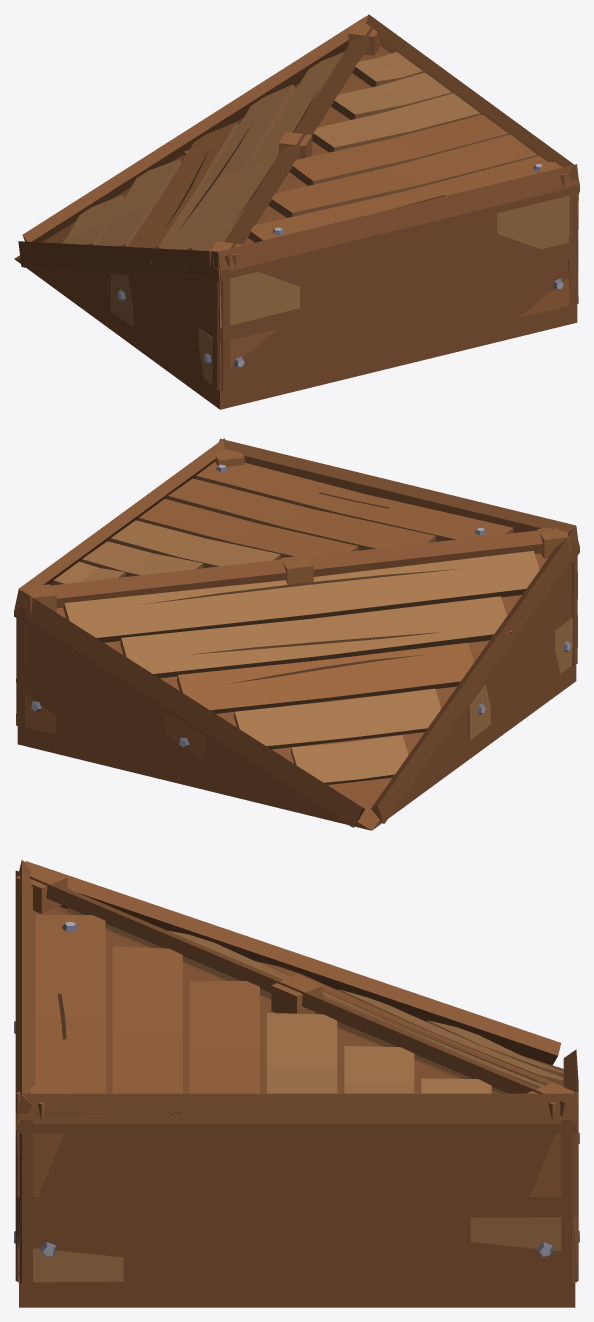
Rendered from cone_plank_tent.glb.
The picture shows the model from 3 angles, top to bottom: view 1: azimuth 30°, elevation 25°; view 2: azimuth 150°, elevation 25°; view 3: azimuth 270°, elevation 25°; orthographic projection. The views are drawn at different scales.
Parts seen in each view (by area): view 1: Body; view 2: Body; view 3: Body.
Part boxes in pixels (left/top/right/bottom): Body: left=14, top=14, right=579, bottom=409; Body: left=14, top=438, right=579, bottom=830; Body: left=14, top=860, right=579, bottom=1307.
Bounding box in the file's own units: 4.01 × 1.67 × 4.01.
